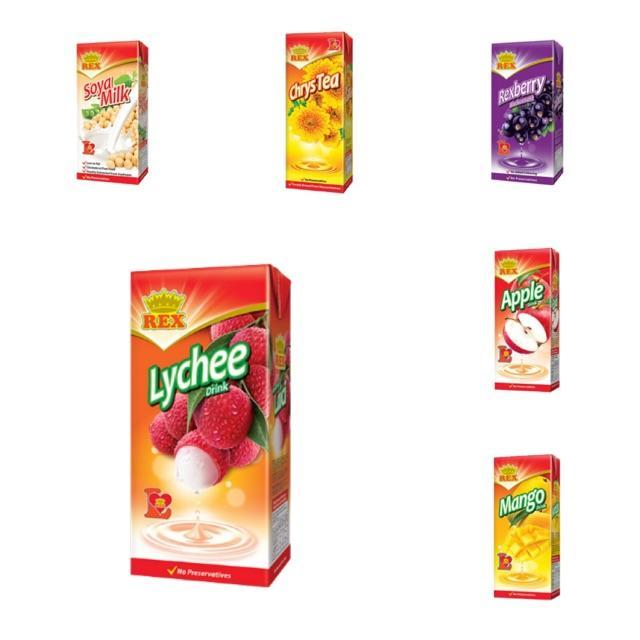drink carton: (131, 263, 293, 591), (279, 29, 353, 195), (489, 455, 564, 599), (79, 35, 150, 183), (491, 41, 564, 183), (493, 243, 561, 394)
